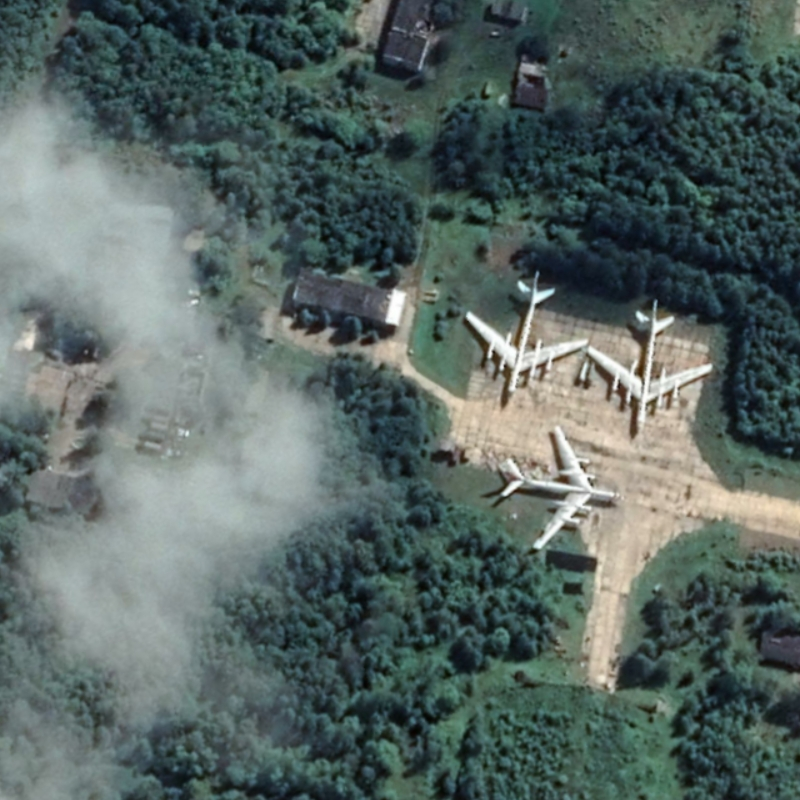A17: (581, 297, 719, 444), (493, 420, 628, 556), (458, 268, 591, 402)
